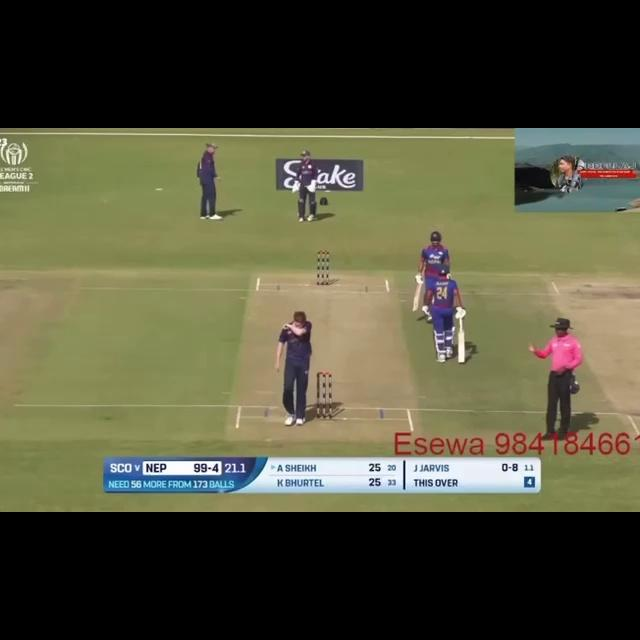umpire: (524, 311, 588, 439)
